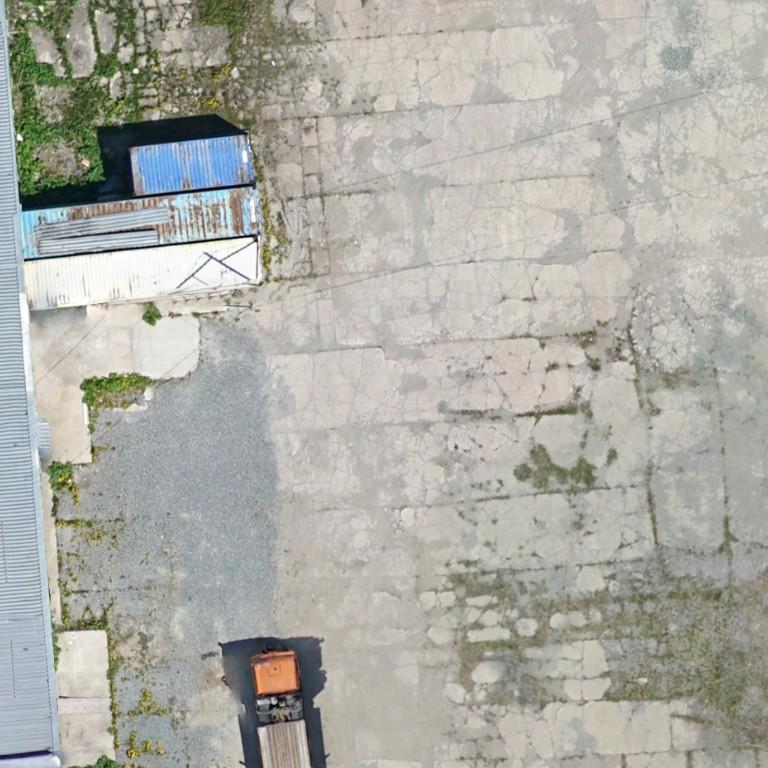hogweed: (15, 85, 105, 196), (11, 35, 61, 83)
